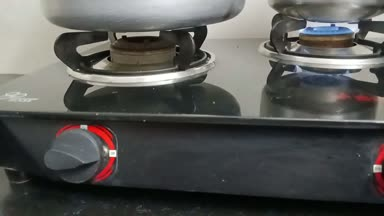flame_gas_off: (46, 24, 182, 185)
flame_gas_on: (283, 13, 373, 61)
